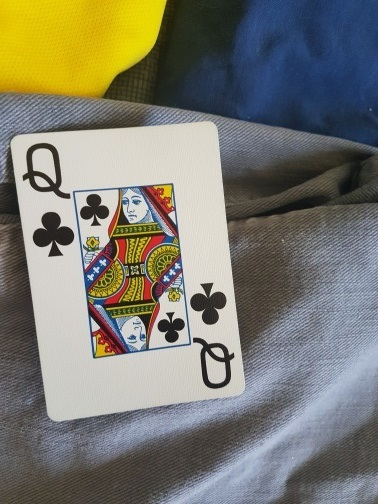queen: (11, 121, 244, 420)
